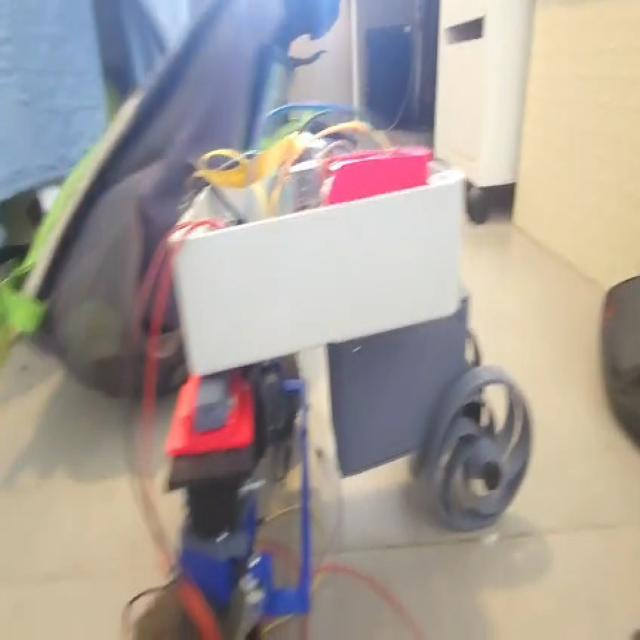Robot: (133, 140, 531, 640)
